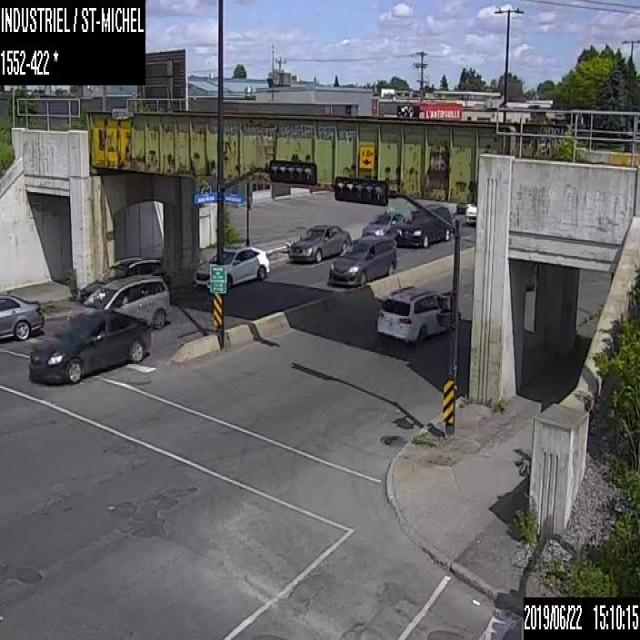vehicle: (28, 310, 152, 384), (68, 273, 170, 329), (375, 286, 451, 344), (78, 256, 164, 306), (192, 244, 270, 290), (328, 236, 396, 287), (287, 222, 351, 263), (396, 204, 451, 246), (0, 293, 44, 340), (362, 206, 404, 238), (464, 200, 477, 225)
